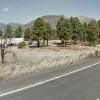Tree: (51, 8, 98, 50)
